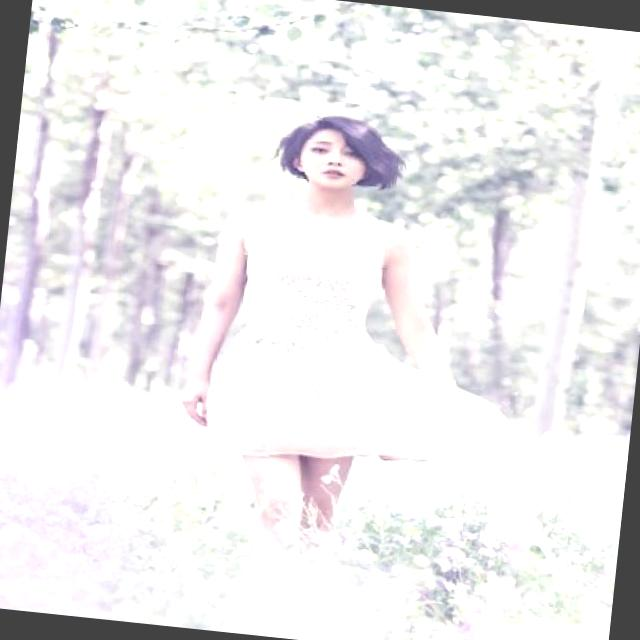Person: (184, 99, 458, 574)
